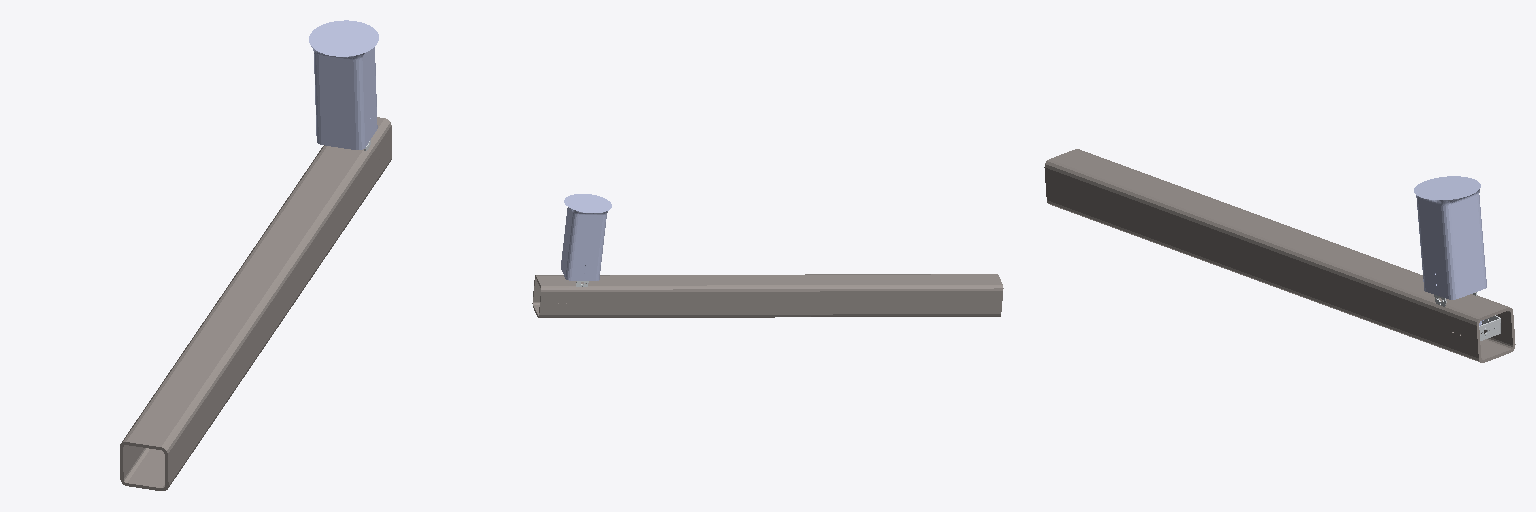
robot.urdf — Robotic arm:
<?xml version="1.0" encoding="utf-8"?>
<!-- This URDF was automatically created by SolidWorks to URDF Exporter! Originally created by [author] ([email redacted]) 
     Commit Version: 1.6.0-4-g7f85cfe  Build Version: 1.6.7995.38578
     For more information, please see http://wiki.ros.org/sw_urdf_exporter -->
<robot
  name="Robotic arm">
  <link
    name="base_link">
    <inertial>
      <origin
        xyz="-0.69679563303847 -0.00816784335744991 0.265731986403883"
        rpy="0 0 0" />
      <mass
        value="0.25317860462902" />
      <inertia
        ixx="0.000828403245741527"
        ixy="3.70541920163951E-05"
        ixz="3.01784146668713E-06"
        iyy="0.000350972792845602"
        iyz="-3.73050861469943E-05"
        izz="0.000828409230624187" />
    </inertial>
    <visual>
      <origin
        xyz="0 0 0"
        rpy="0 0 0" />
      <geometry>
        <mesh
          filename="package://Robotic arm/meshes/base_link.STL" />
      </geometry>
      <material
        name="">
        <color
          rgba="0.792156862745098 0.819607843137255 0.933333333333333 1" />
      </material>
    </visual>
    <collision>
      <origin
        xyz="0 0 0"
        rpy="0 0 0" />
      <geometry>
        <mesh
          filename="package://Robotic arm/meshes/base_link.STL" />
      </geometry>
    </collision>
  </link>
  <link
    name="l1">
    <inertial>
      <origin
        xyz="-2.22044604925031E-16 0.0183275154559336 -0.0312500000000004"
        rpy="0 0 0" />
      <mass
        value="0.00856484506992035" />
      <inertia
        ixx="9.66022619763091E-06"
        ixy="-8.99972506457694E-22"
        ixz="-2.5410988417629E-21"
        iyy="6.60895990111248E-06"
        iyz="-1.20305148289712E-20"
        izz="3.96478275110436E-06" />
    </inertial>
    <visual>
      <origin
        xyz="0 0 0"
        rpy="0 0 0" />
      <geometry>
        <mesh
          filename="package://Robotic arm/meshes/l1.STL" />
      </geometry>
      <material
        name="">
        <color
          rgba="0.894117647058823 0.913725490196078 0.929411764705882 1" />
      </material>
    </visual>
    <collision>
      <origin
        xyz="0 0 0"
        rpy="0 0 0" />
      <geometry>
        <mesh
          filename="package://Robotic arm/meshes/l1.STL" />
      </geometry>
    </collision>
  </link>
  <joint
    name="jt1"
    type="fixed">
    <origin
      xyz="-0.672239905924361 -0.285508163221258 -0.0607021044383488"
      rpy="-1.57867704022667 0.108785793712191 -2.42540916266426" />
    <parent
      link="base_link" />
    <child
      link="l1" />
    <axis
      xyz="0 0 0" />
  </joint>
  <link
    name="l2">
    <inertial>
      <origin
        xyz="-8.88178419700125E-16 -0.0121035978405494 0.0365476590504581"
        rpy="0 0 0" />
      <mass
        value="0.00642116129734904" />
      <inertia
        ixx="1.06416756703803E-06"
        ixy="-9.72764400362361E-22"
        ixz="-1.42936809849163E-21"
        iyy="7.48590411023203E-07"
        iyz="-3.00219563056541E-07"
        izz="9.84127034084534E-07" />
    </inertial>
    <visual>
      <origin
        xyz="0 0 0"
        rpy="0 0 0" />
      <geometry>
        <mesh
          filename="package://Robotic arm/meshes/l2.STL" />
      </geometry>
      <material
        name="">
        <color
          rgba="0.898039215686275 0.917647058823529 0.929411764705882 1" />
      </material>
    </visual>
    <collision>
      <origin
        xyz="0 0 0"
        rpy="0 0 0" />
      <geometry>
        <mesh
          filename="package://Robotic arm/meshes/l2.STL" />
      </geometry>
    </collision>
  </link>
  <joint
    name="joint2"
    type="continuous">
    <origin
      xyz="0 0.0499999999999989 -0.0173803841386614"
      rpy="3.14159265358979 0 0.0406079501401341" />
    <parent
      link="l1" />
    <child
      link="l2" />
    <axis
      xyz="0 0 1" />
  </joint>
  <link
    name="l3">
    <inertial>
      <origin
        xyz="0.00526797315955069 -0.00674231950867726 -5.16253706450698E-14"
        rpy="0 0 0" />
      <mass
        value="0.0299056240871998" />
      <inertia
        ixx="2.44979605081823E-05"
        ixy="1.74541845571235E-06"
        ixz="2.73168125489512E-20"
        iyy="1.6745384090036E-05"
        iyz="1.90582413132218E-20"
        izz="1.2101416361274E-05" />
    </inertial>
    <visual>
      <origin
        xyz="0 0 0"
        rpy="0 0 0" />
      <geometry>
        <mesh
          filename="package://Robotic arm/meshes/l3.STL" />
      </geometry>
      <material
        name="">
        <color
          rgba="0.898039215686275 0.917647058823529 0.929411764705882 1" />
      </material>
    </visual>
    <collision>
      <origin
        xyz="0 0 0"
        rpy="0 0 0" />
      <geometry>
        <mesh
          filename="package://Robotic arm/meshes/l3.STL" />
      </geometry>
    </collision>
  </link>
  <joint
    name="joint3"
    type="fixed">
    <origin
      xyz="0.0104999999999992 -0.0225000000000055 0.0141196158613402"
      rpy="-1.5707963267949 0 -1.5707963267949" />
    <parent
      link="l2" />
    <child
      link="l3" />
    <axis
      xyz="0 0 0" />
  </joint>
  <link
    name="l4">
    <inertial>
      <origin
        xyz="0.000423571393782796 0.0237903672857819 2.01669322925924E-06"
        rpy="0 0 0" />
      <mass
        value="0.0922547988467911" />
      <inertia
        ixx="2.39260289532797E-05"
        ixy="-6.29877046968507E-07"
        ixz="-3.25333691981167E-09"
        iyy="3.92472604810845E-05"
        iyz="-1.21334747488215E-09"
        izz="4.97573758155457E-05" />
    </inertial>
    <visual>
      <origin
        xyz="0 0 0"
        rpy="0 0 0" />
      <geometry>
        <mesh
          filename="package://Robotic arm/meshes/l4.STL" />
      </geometry>
      <material
        name="">
        <color
          rgba="0.792156862745098 0.819607843137255 0.933333333333333 1" />
      </material>
    </visual>
    <collision>
      <origin
        xyz="0 0 0"
        rpy="0 0 0" />
      <geometry>
        <mesh
          filename="package://Robotic arm/meshes/l4.STL" />
      </geometry>
    </collision>
  </link>
  <joint
    name="motor"
    type="fixed">
    <origin
      xyz="0.0163442401711011 -0.0266508074623717 0.000642634023008903"
      rpy="0 1.55334303434829 0" />
    <parent
      link="l3" />
    <child
      link="l4" />
    <axis
      xyz="0 0 0" />
  </joint>
  <link
    name="l5">
    <inertial>
      <origin
        xyz="3.03923552991137E-14 -0.0142942180766732 8.88178419700125E-15"
        rpy="0 0 0" />
      <mass
        value="0.00180689470752886" />
      <inertia
        ixx="4.36643567346642E-08"
        ixy="4.69683491565266E-23"
        ixz="1.4475660719678E-24"
        iyy="8.22625639685291E-08"
        iyz="2.81241408268029E-23"
        izz="4.36643567346642E-08" />
    </inertial>
    <visual>
      <origin
        xyz="0 0 0"
        rpy="0 0 0" />
      <geometry>
        <mesh
          filename="package://Robotic arm/meshes/l5.STL" />
      </geometry>
      <material
        name="">
        <color
          rgba="0.666666666666667 0.698039215686274 0.768627450980392 1" />
      </material>
    </visual>
    <collision>
      <origin
        xyz="0 0 0"
        rpy="0 0 0" />
      <geometry>
        <mesh
          filename="package://Robotic arm/meshes/l5.STL" />
      </geometry>
    </collision>
  </link>
  <joint
    name="motor shaft"
    type="continuous">
    <origin
      xyz="0.019499999999959 0.0402007200296159 0"
      rpy="-3.14159265358979 1.40973719906846 0" />
    <parent
      link="l4" />
    <child
      link="l5" />
    <axis
      xyz="0 1 0" />
  </joint>
  <link
    name="l6">
    <inertial>
      <origin
        xyz="-8.32667268468867E-17 0.0183275154559351 -0.0312500000000002"
        rpy="0 0 0" />
      <mass
        value="0.00856484506992047" />
      <inertia
        ixx="9.66022619763108E-06"
        ixy="-2.0216294170796E-21"
        ixz="-1.5613861242551E-20"
        iyy="6.60895990111256E-06"
        iyz="1.6940658945086E-20"
        izz="3.96478275110445E-06" />
    </inertial>
    <visual>
      <origin
        xyz="0 0 0"
        rpy="0 0 0" />
      <geometry>
        <mesh
          filename="package://Robotic arm/meshes/l6.STL" />
      </geometry>
      <material
        name="">
        <color
          rgba="0.894117647058823 0.913725490196078 0.929411764705882 1" />
      </material>
    </visual>
    <collision>
      <origin
        xyz="0 0 0"
        rpy="0 0 0" />
      <geometry>
        <mesh
          filename="package://Robotic arm/meshes/l6.STL" />
      </geometry>
    </collision>
  </link>
  <joint
    name="joint6"
    type="fixed">
    <origin
      xyz="0 -0.0179500874327593 -0.0499999999999989"
      rpy="1.5707963267949 0 0" />
    <parent
      link="l5" />
    <child
      link="l6" />
    <axis
      xyz="0 0 0" />
  </joint>
  <link
    name="l7">
    <inertial>
      <origin
        xyz="-0.0312499999999994 0.000634844610749294 -0.454886154222958"
        rpy="0 0 0" />
      <mass
        value="1.26362254671649" />
      <inertia
        ixx="0.102670063848464"
        ixy="-4.33680868994202E-18"
        ixz="1.53468817515323E-16"
        iyy="0.102669902721398"
        iyz="-5.75964646934286E-08"
        izz="0.00186883040185773" />
    </inertial>
    <visual>
      <origin
        xyz="0 0 0"
        rpy="0 0 0" />
      <geometry>
        <mesh
          filename="package://Robotic arm/meshes/l7.STL" />
      </geometry>
      <material
        name="">
        <color
          rgba="0.643137254901961 0.615686274509804 0.6 1" />
      </material>
    </visual>
    <collision>
      <origin
        xyz="0 0 0"
        rpy="0 0 0" />
      <geometry>
        <mesh
          filename="package://Robotic arm/meshes/l7.STL" />
      </geometry>
    </collision>
  </link>
  <joint
    name="bigarm"
    type="continuous">
    <origin
      xyz="0 0.0099999999999999 0"
      rpy="1.68565517922975 -1.5707963267949 0" />
    <parent
      link="l6" />
    <child
      link="l7" />
    <axis
      xyz="1 0 0" />
  </joint>
</robot>

--- Facts derived from the render (not from the file) ---
Views: 3 orthographic renders of the robot side by side, from view 1: azimuth 30°, elevation 25°; view 2: azimuth 150°, elevation 25°; view 3: azimuth 270°, elevation 25°.
Robot: Robotic arm — 8 links, 7 joints (3 continuous, 4 fixed); root link base_link; default pose: every joint at zero.
Links seen in each view (by area): view 1: l7, base_link; view 2: l7, base_link; view 3: l7, base_link.
Link boxes in pixels (x1=…): l7: x1=120, y1=117, x2=391, y2=490; base_link: x1=309, y1=20, x2=378, y2=149; l7: x1=532, y1=274, x2=1003, y2=317; base_link: x1=561, y1=194, x2=611, y2=280; l7: x1=1044, y1=149, x2=1515, y2=362; base_link: x1=1414, y1=176, x2=1486, y2=299.
Bounding box of the posed robot: 0.7894 × 0.701 × 0.3295 m (x, y, z).
Meshes: 8 distinct files referenced, 8 mesh visuals loaded (8 binary STL).